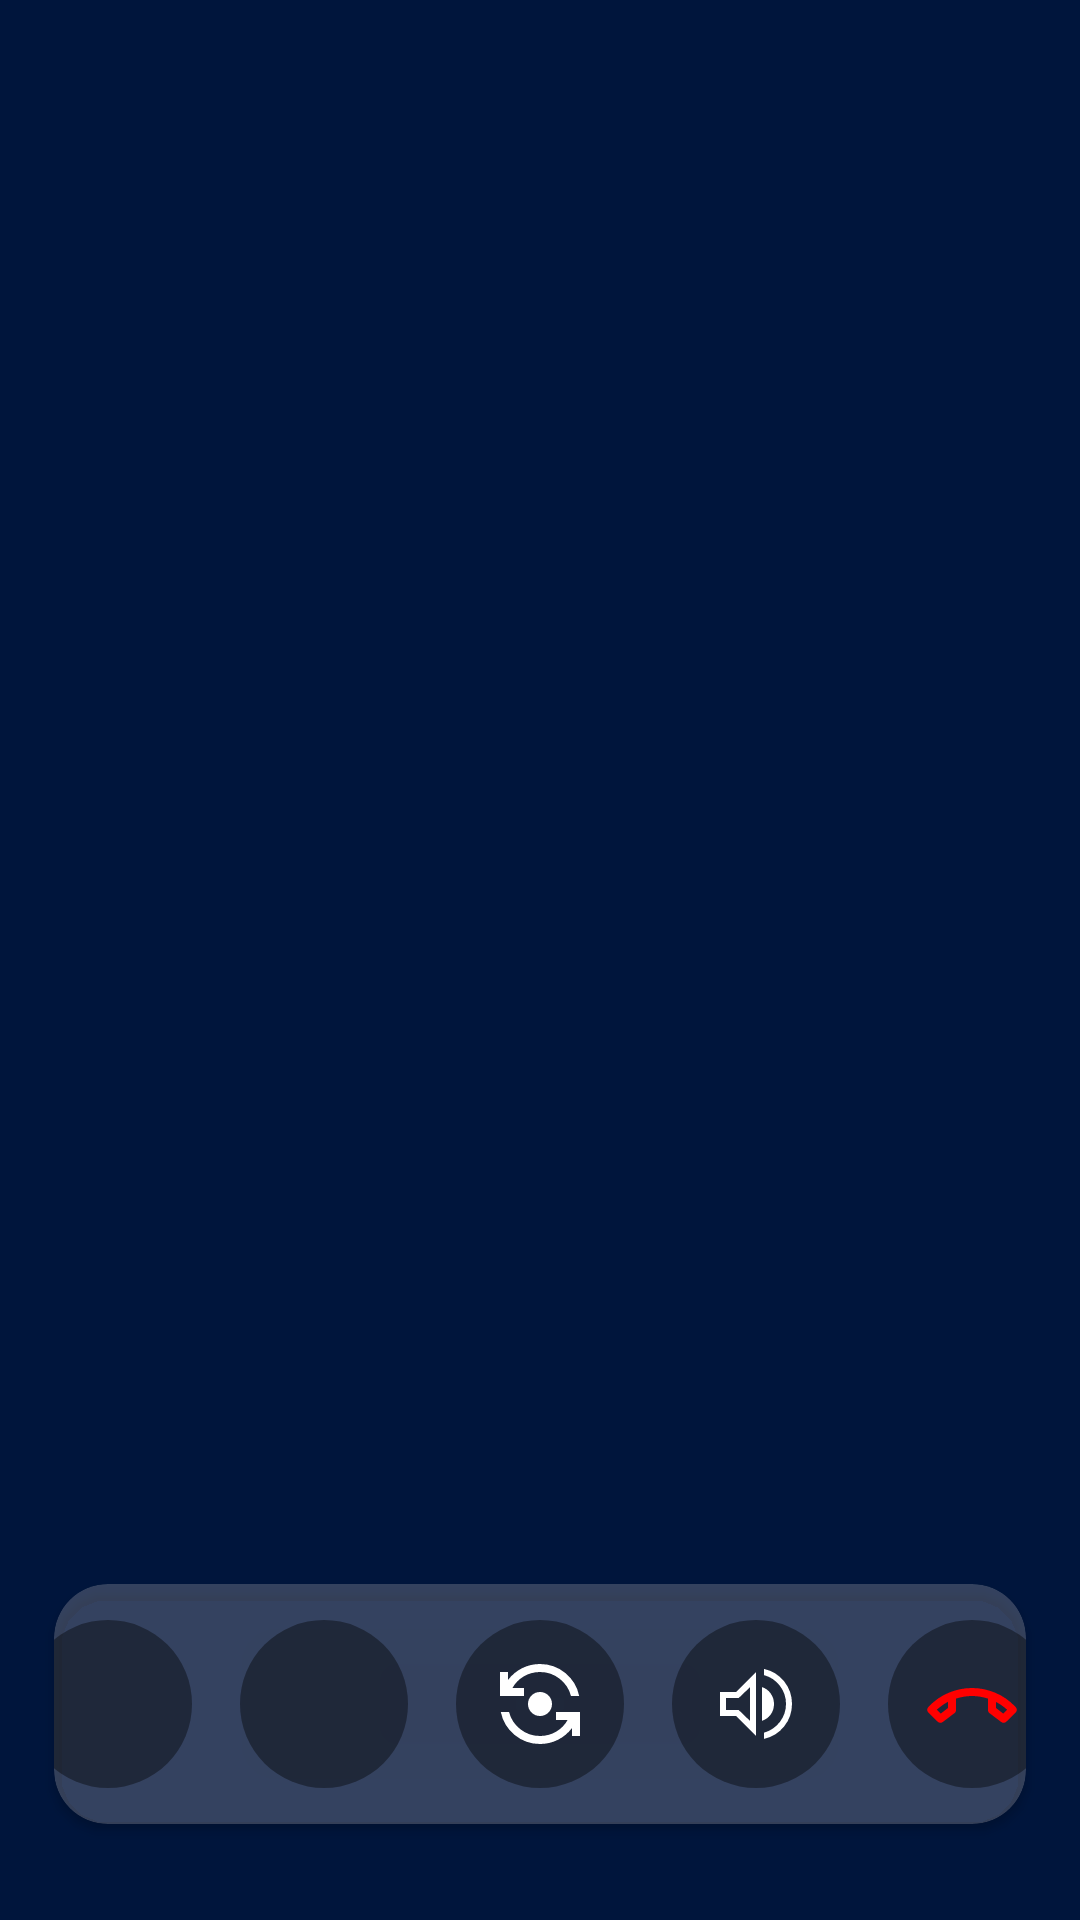

Screen size 1080px x 1920px. Icon name, then its box in pixels as [x1, y1, x2, y2]:
flip camera android: [456, 1620, 624, 1788]
volume up: [672, 1620, 840, 1788]
